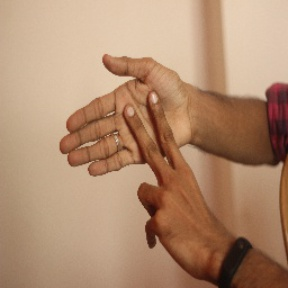N: (51, 51, 214, 238)
